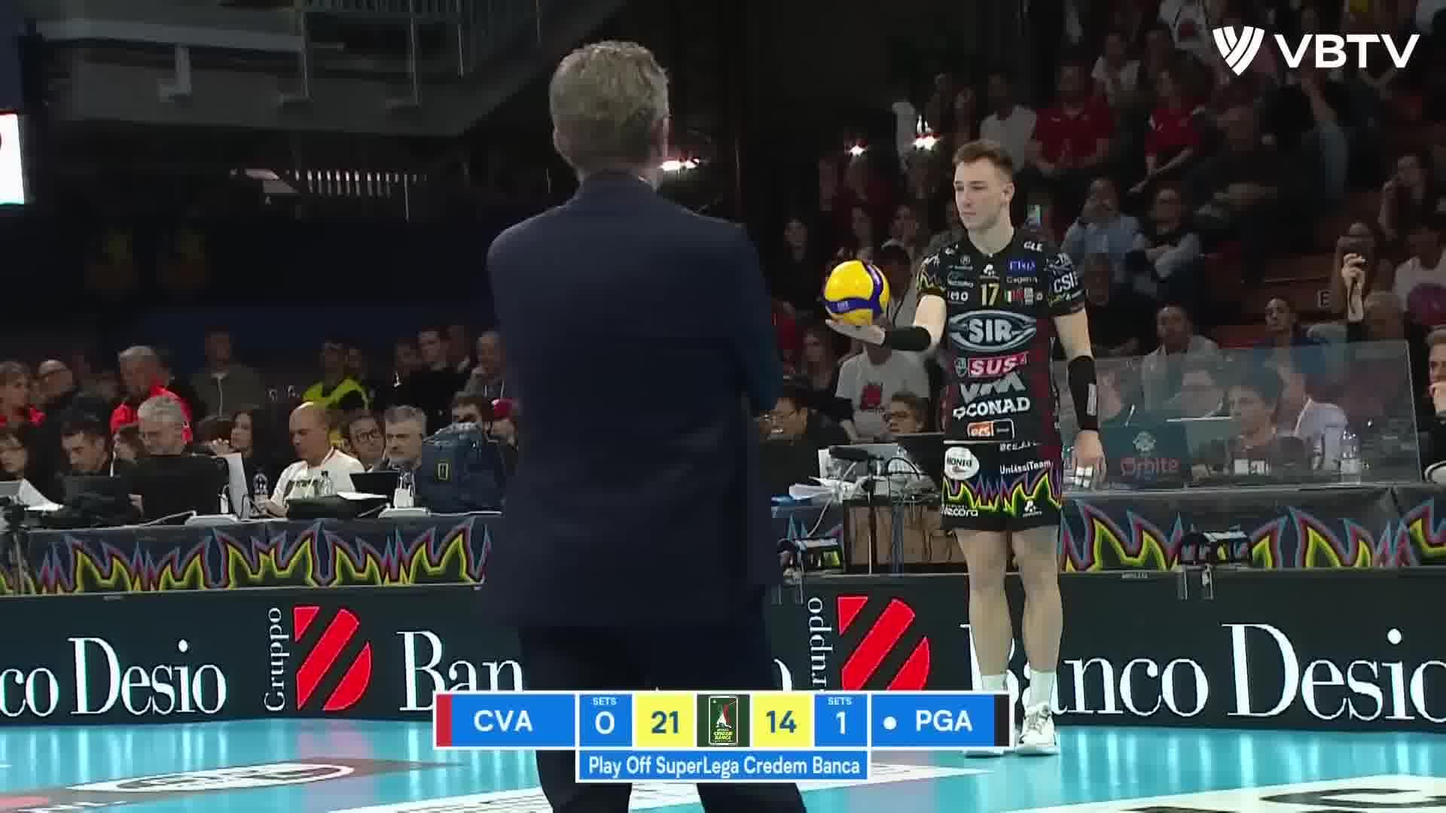balls: (818, 254, 895, 330)
